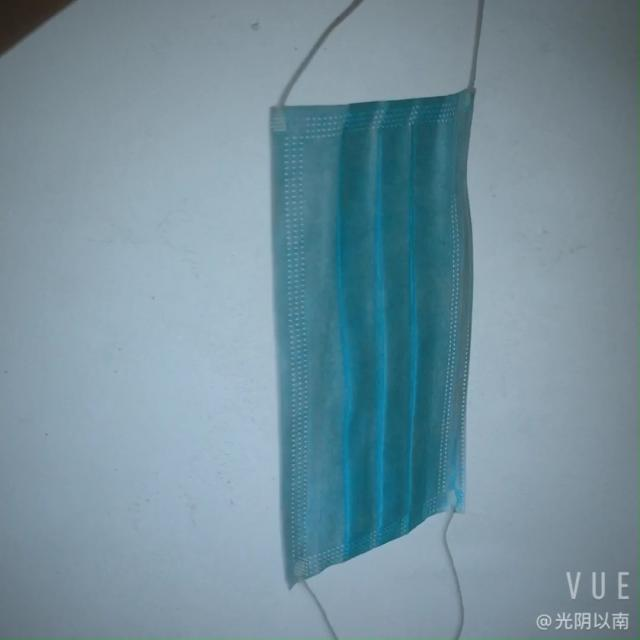non-organic waste: (246, 80, 509, 587)
